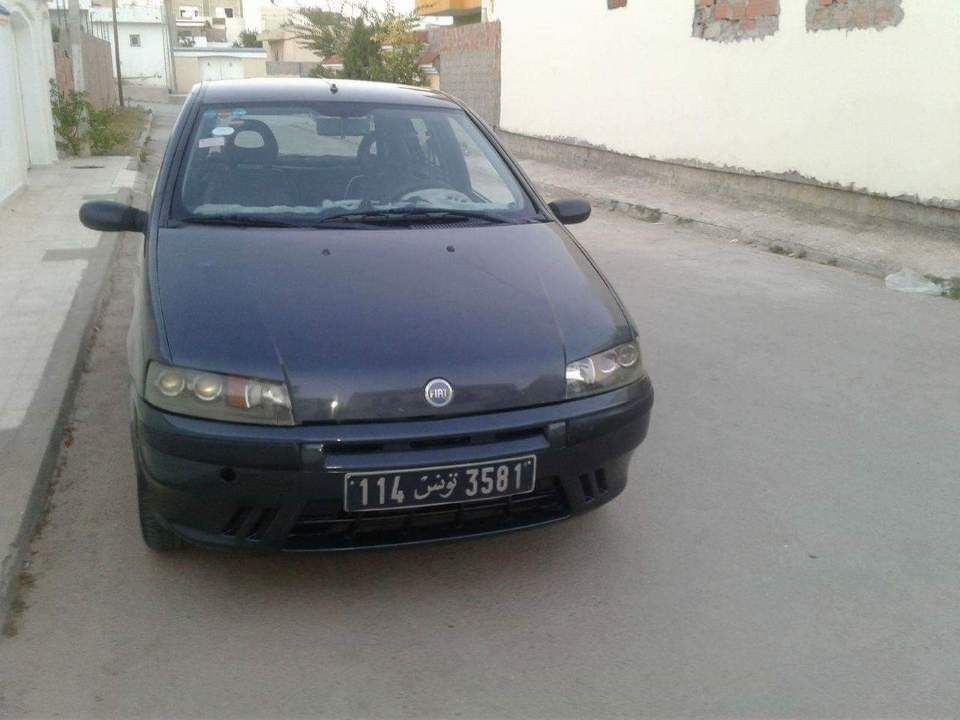LP: (344, 455, 542, 513)
